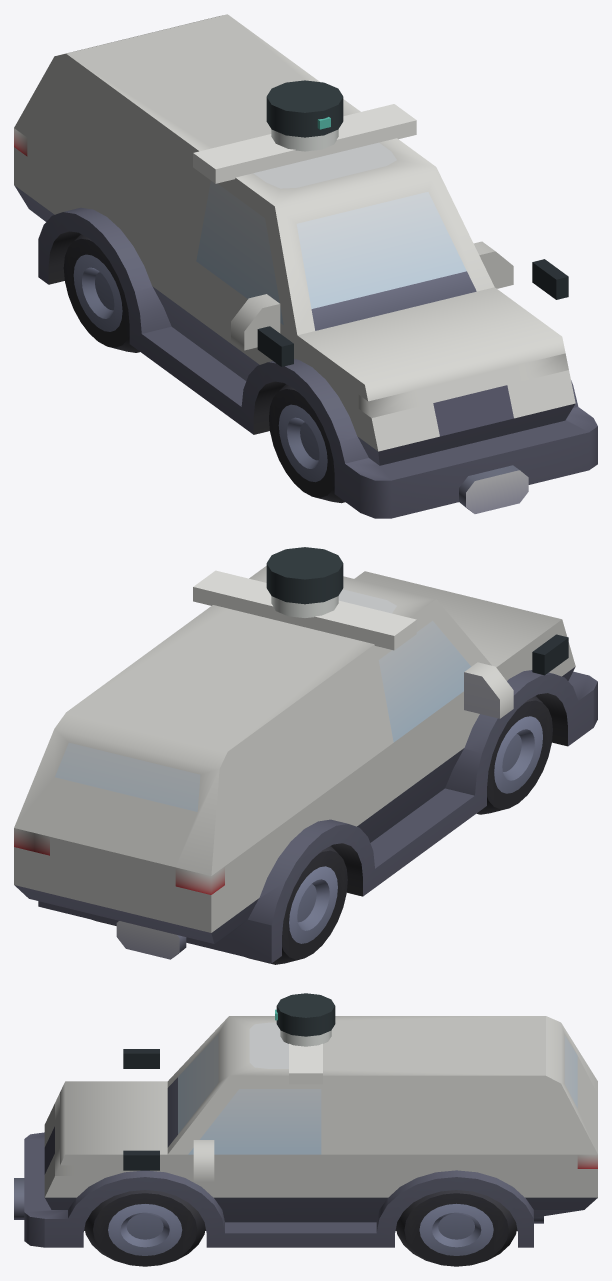
The model's file is robotaxi.glb.
3 views of the same model, one above another, from view 1: azimuth 30°, elevation 25°; view 2: azimuth 150°, elevation 25°; view 3: azimuth 270°, elevation 25° (orthographic). The views are drawn at different scales.
Visible parts, largest first — view 1: body, sensor-roof-bar, wheel-back-right, wheel-front-right, lidar-puck, side-sensor (×2), lidar-base; view 2: body, sensor-roof-bar, wheel-back-right, wheel-front-right, lidar-puck, side-sensor, lidar-base; view 3: body, wheel-front-left, wheel-back-left, lidar-puck, side-sensor (×2), sensor-roof-bar, lidar-base.
Boxes of the visible parts, left/top/right/bottom form: body: left=14, top=14, right=597, bottom=518; sensor-roof-bar: left=193, top=104, right=416, bottom=183; wheel-back-right: left=63, top=234, right=139, bottom=352; wheel-front-right: left=269, top=384, right=345, bottom=503; lidar-puck: left=266, top=80, right=343, bottom=137; side-sensor (×2): left=257, top=259, right=568, bottom=366; lidar-base: left=271, top=129, right=338, bottom=151; body: left=14, top=566, right=597, bottom=963; sensor-roof-bar: left=193, top=570, right=416, bottom=650; wheel-back-right: left=246, top=846, right=347, bottom=964; wheel-front-right: left=476, top=696, right=552, bottom=814; lidar-puck: left=266, top=547, right=343, bottom=604; side-sensor: left=532, top=634, right=568, bottom=675; lidar-base: left=271, top=596, right=338, bottom=617; body: left=14, top=1016, right=597, bottom=1247; wheel-front-left: left=84, top=1190, right=205, bottom=1266; wheel-back-left: left=396, top=1190, right=516, bottom=1266; lidar-puck: left=276, top=993, right=335, bottom=1036; side-sensor (×2): left=123, top=1049, right=159, bottom=1170; sensor-roof-bar: left=289, top=1043, right=322, bottom=1084; lidar-base: left=280, top=1030, right=331, bottom=1046.
Size of the model in its own units: 2.07 by 2.07 by 4.8.
